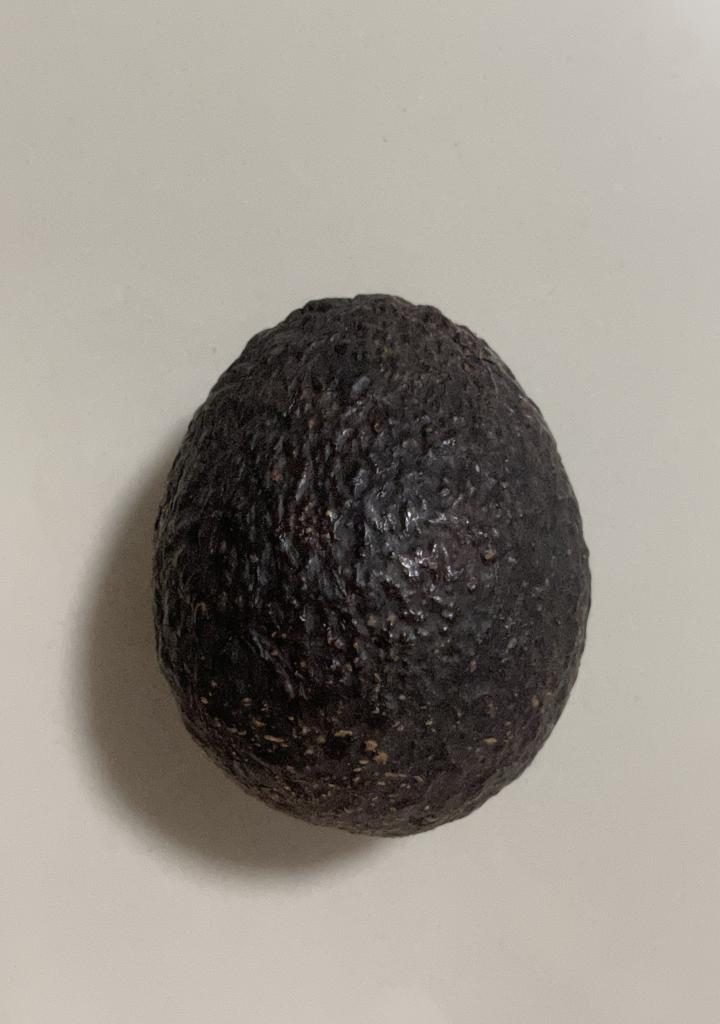Level3: (140, 280, 600, 848)
